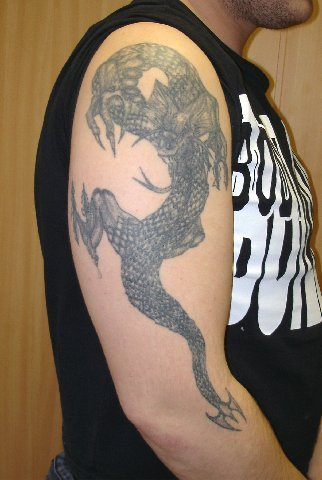tatu6_drakon: (66, 39, 250, 434)
